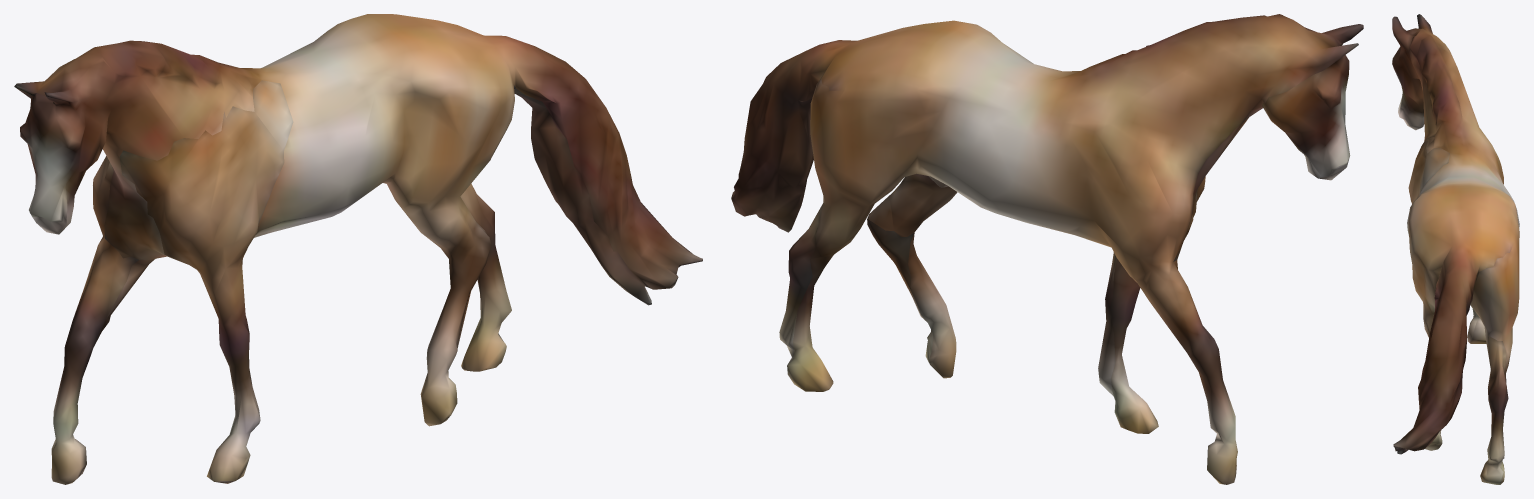
The model's file is Breyer_Horse_Of_The_Year_2015-medium.glb.
3 renders of one model, left to right at view 1: azimuth 30°, elevation 25°; view 2: azimuth 150°, elevation 25°; view 3: azimuth 270°, elevation 25°, orthographic. The views are drawn at different scales.
Parts seen in each view (by area): view 1: Breyer_Horse_Of_The_Year_2015; view 2: Breyer_Horse_Of_The_Year_2015; view 3: Breyer_Horse_Of_The_Year_2015.
Part boxes in pixels (x1,y1,x2,y2): Breyer_Horse_Of_The_Year_2015: (14,14,702,484); Breyer_Horse_Of_The_Year_2015: (731,14,1363,484); Breyer_Horse_Of_The_Year_2015: (1392,14,1519,484).
Bounding box in the file's own units: 0.2311 × 0.1528 × 0.0573.
1 material, 1 textured.
